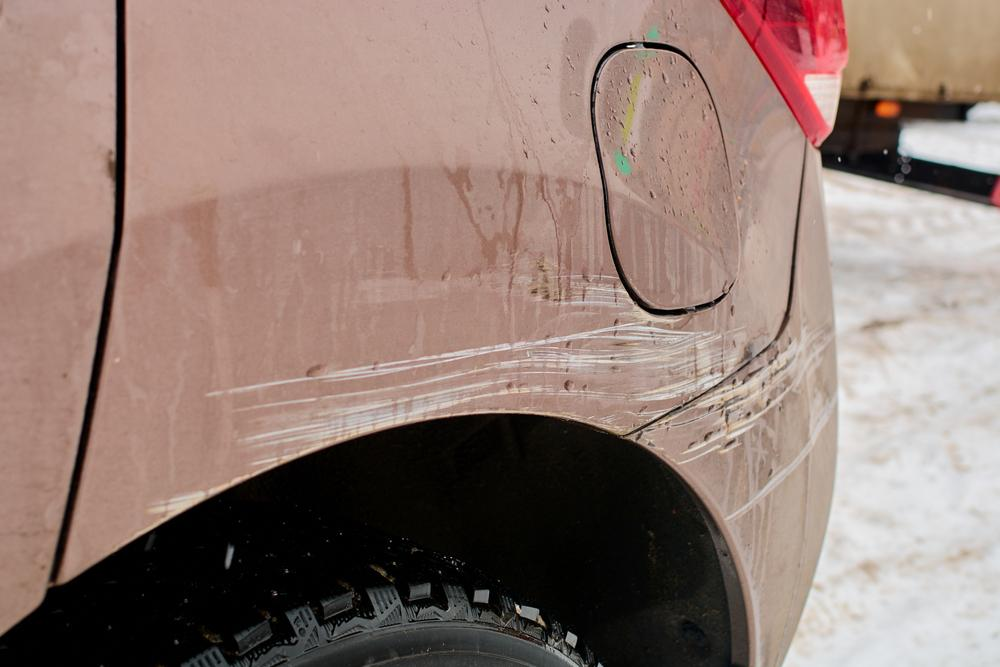scratch: (142, 272, 778, 529), (622, 322, 840, 535)
